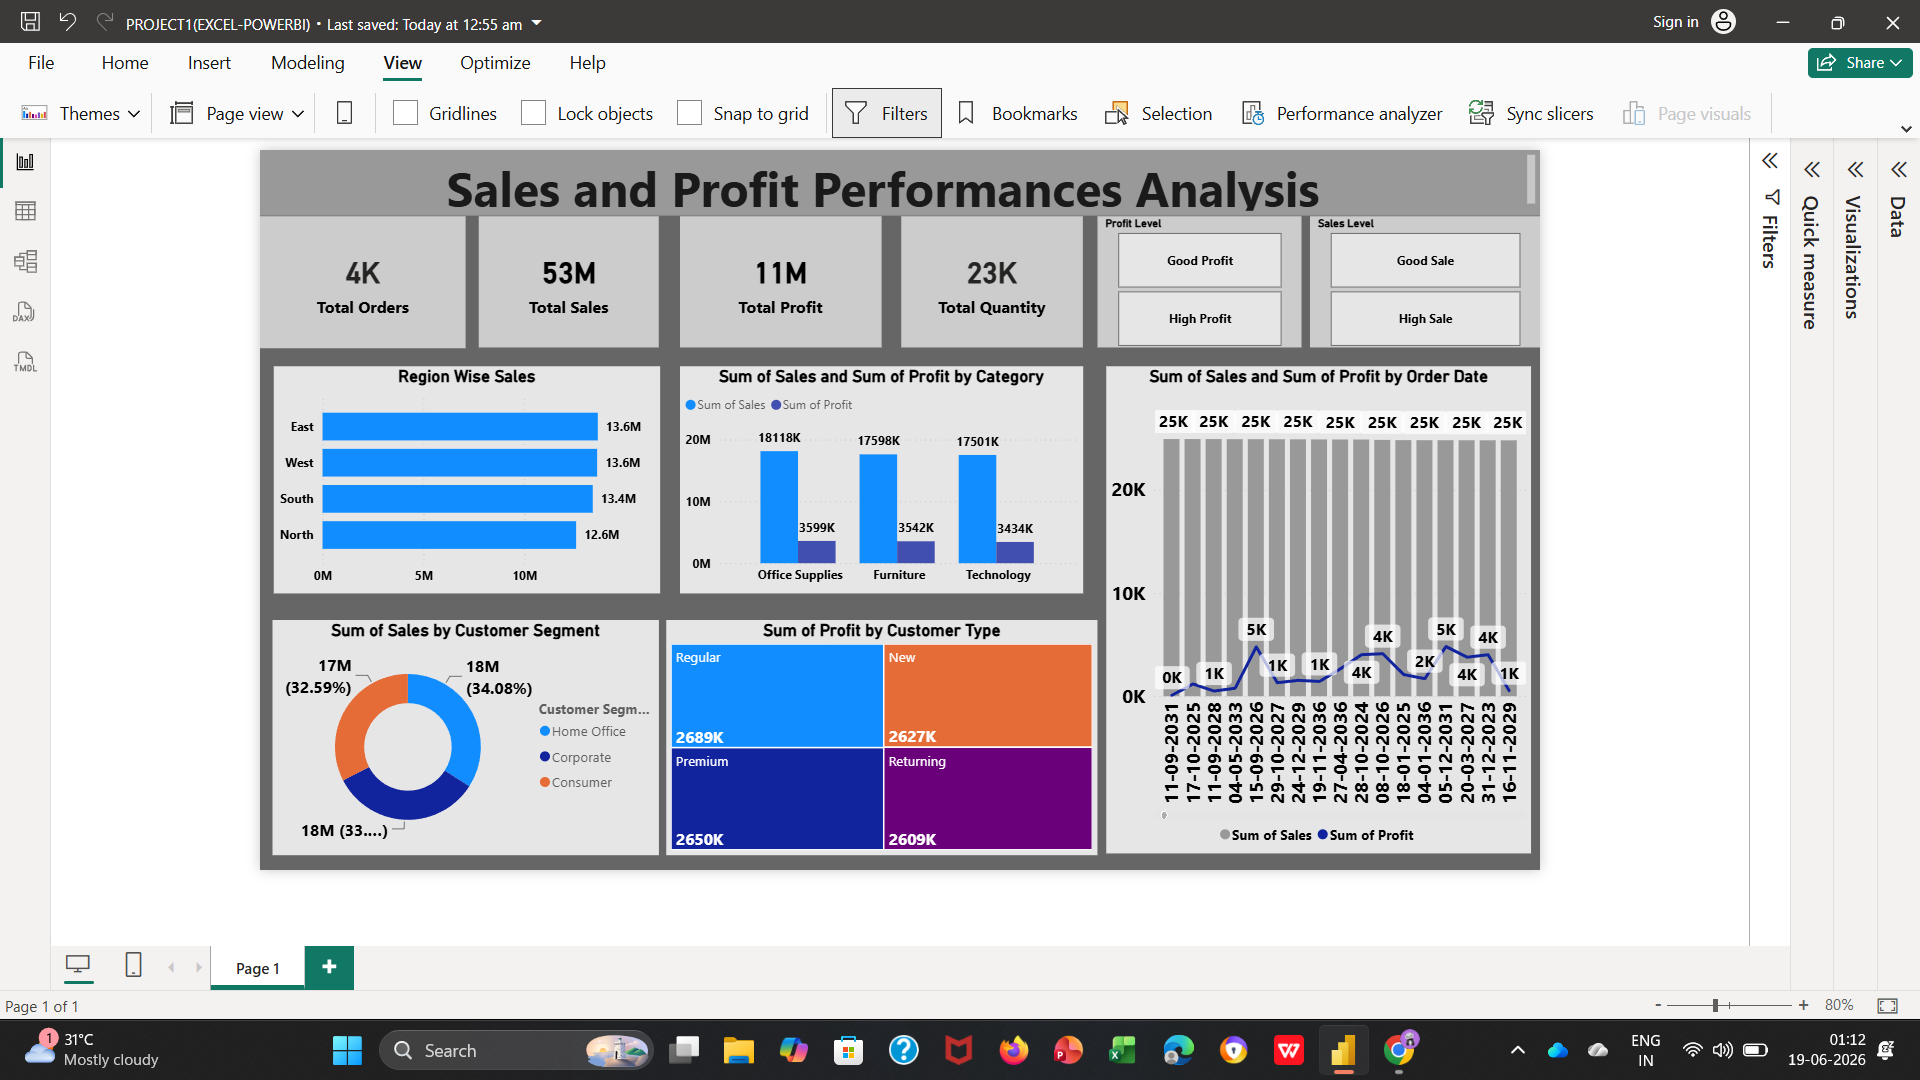

Layout of this report page (visuals, bound fields, positions):
{"tool":"powerbi","page":{"name":"Page 1","canvas":[1280,720],"ordinal":0},"visuals":[{"type":"textbox","box":[0,0,1280.3,65.9],"z":0},{"type":"card","fields":{"Values":["Superstore_Data_2_1.Total Orders"]},"box":[0,65.9,205.8,131.7],"z":1000},{"type":"card","fields":{"Values":["Superstore_Data_2_1.Total Profit"]},"box":[420,65.7,201.4,131.4],"z":2000},{"type":"card","fields":{"Values":["Superstore_Data_2_1.Total Quantity"]},"box":[641.4,65.7,181.4,131.4],"z":3000},{"type":"slicer","fields":{"Values":["Superstore_Data_2_1.Profit Level"]},"box":[837.1,65.7,204.3,131.4],"z":4000},{"type":"slicer","fields":{"Values":["Superstore_Data_2_1.Sales Level"]},"box":[1050,65.7,230,131.4],"z":5000},{"type":"clusteredBarChart","title":"Region Wise Sales","fields":{"Category":["Superstore_Data_2_1.Region"],"Y":["Sum(Superstore_Data_2_1.Sales)"]},"box":[0,215,386.2,227.5],"z":6000},{"type":"card","fields":{"Values":["Superstore_Data_2_1.Total Sales"]},"box":[218.6,65.7,180,131.4],"z":7000},{"type":"clusteredColumnChart","fields":{"Category":["Superstore_Data_2_1.Category"],"Y":["Sum(Superstore_Data_2_1.Sales)","Sum(Superstore_Data_2_1.Profit)"]},"box":[420,215.7,402.9,227.1],"z":8000},{"type":"donutChart","fields":{"Category":["Superstore_Data_2_1.Customer Segment"],"Y":["Sum(Superstore_Data_2_1.Sales)"]},"box":[0,468.6,385.7,235.7],"z":9000},{"type":"treemap","fields":{"Group":["Superstore_Data_2_1.Customer Type"],"Values":["Sum(Superstore_Data_2_1.Profit)"]},"box":[405.7,468.6,431.4,235.7],"z":10000},{"type":"lineClusteredColumnComboChart","fields":{"Category":["Superstore_Data_2_1.Order Date"],"Y2":["Sum(Superstore_Data_2_1.Profit)"],"Y":["Sum(Superstore_Data_2_1.Sales)"]},"box":[845.7,215.7,434.3,504.3],"z":11000}]}

Visuals, with their boxes on the page's 1280x720 design canvas (x1, y1, x2, y2). These are canvas units, not pixel positions in the 1920x1080 screenshot, which may show the page scaled, cropped or inside an application window:
textbox: 0:0:1280:66
card - Superstore_Data_2_1.Total Orders: 0:66:206:198
card - Superstore_Data_2_1.Total Profit: 420:66:621:197
card - Superstore_Data_2_1.Total Quantity: 641:66:823:197
slicer - Superstore_Data_2_1.Profit Level: 837:66:1041:197
slicer - Superstore_Data_2_1.Sales Level: 1050:66:1280:197
"Region Wise Sales" clusteredBarChart: 0:215:386:442
card - Superstore_Data_2_1.Total Sales: 219:66:399:197
clusteredColumnChart - Superstore_Data_2_1.Category x Sum(Superstore_Data_2_1.Sales): 420:216:823:443
donutChart - Superstore_Data_2_1.Customer Segment x Sum(Superstore_Data_2_1.Sales): 0:469:386:704
treemap - Superstore_Data_2_1.Customer Type x Sum(Superstore_Data_2_1.Profit): 406:469:837:704
lineClusteredColumnComboChart - Superstore_Data_2_1.Order Date x Sum(Superstore_Data_2_1.Profit): 846:216:1280:720
